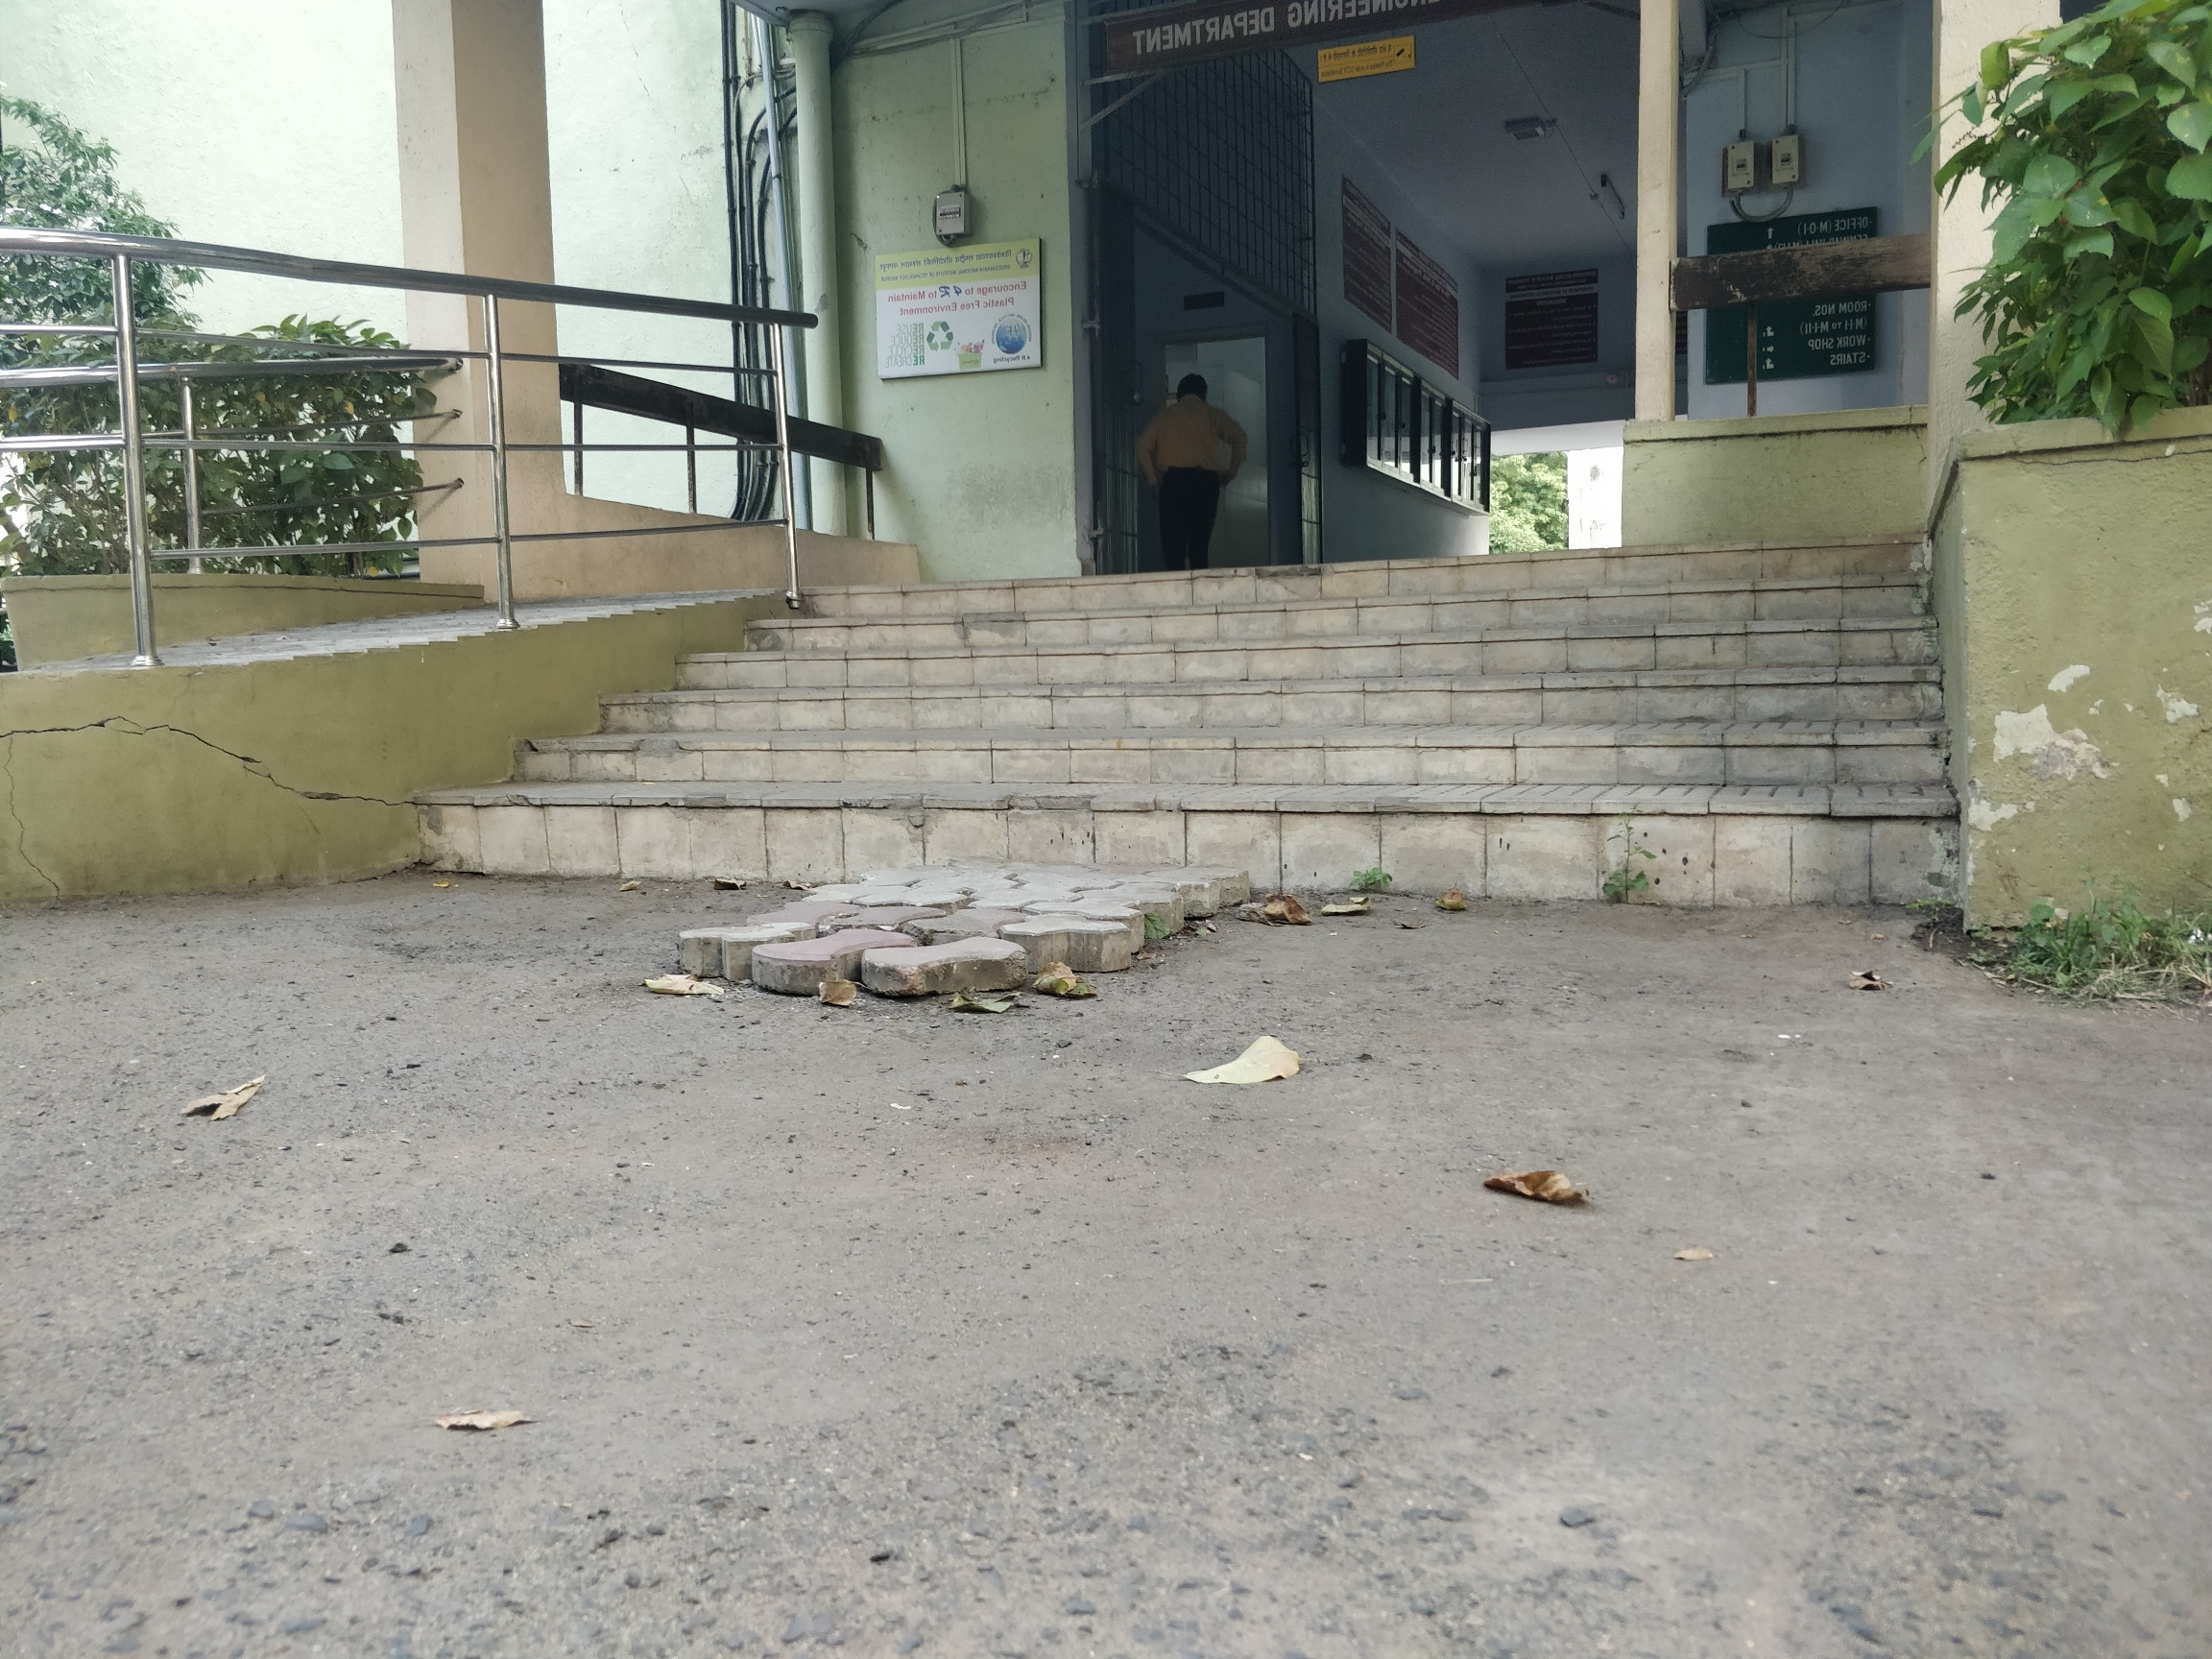stairs_up: (383, 514, 1961, 904)
